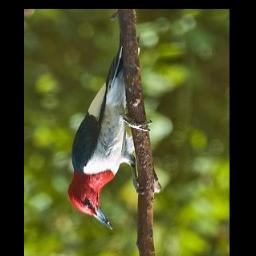Woodpecker: (67, 38, 151, 229)
